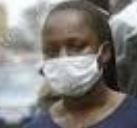with_facemask: (35, 55, 108, 98)
